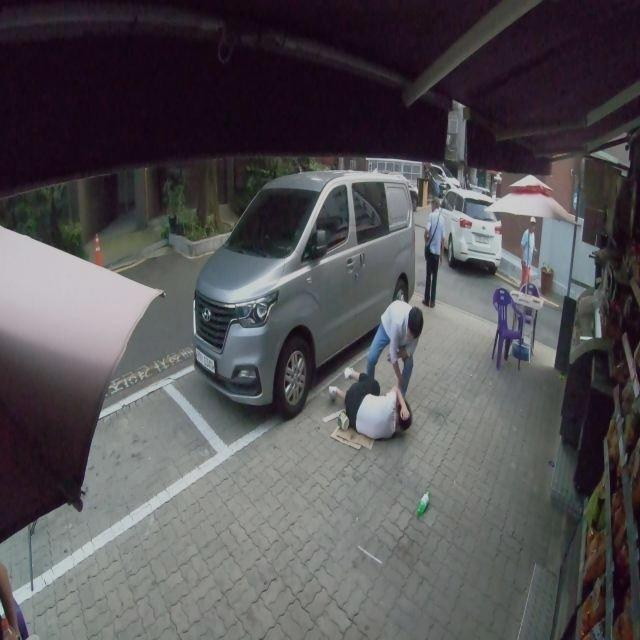fight: (327, 290, 424, 446)
non-fight: (421, 196, 448, 308)
